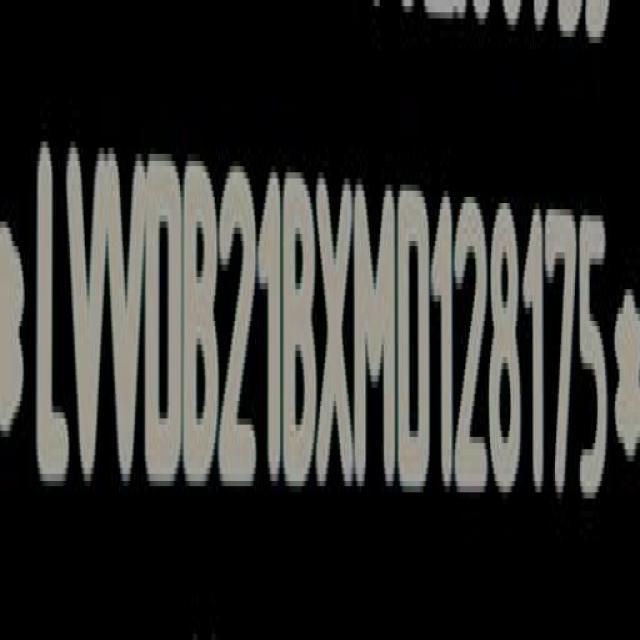1: (259, 163, 283, 494), (432, 189, 454, 501), (524, 200, 544, 500)
2: (220, 160, 258, 494), (454, 192, 491, 503)
5: (580, 207, 612, 499)
7: (548, 205, 576, 503)
8: (491, 197, 523, 498)
B: (181, 145, 221, 487), (283, 167, 316, 489)
D: (149, 153, 184, 493), (400, 181, 432, 495)
L: (38, 138, 72, 493)
M: (354, 175, 399, 497)
V: (68, 137, 110, 491), (110, 148, 146, 492)
X: (316, 173, 354, 495)
